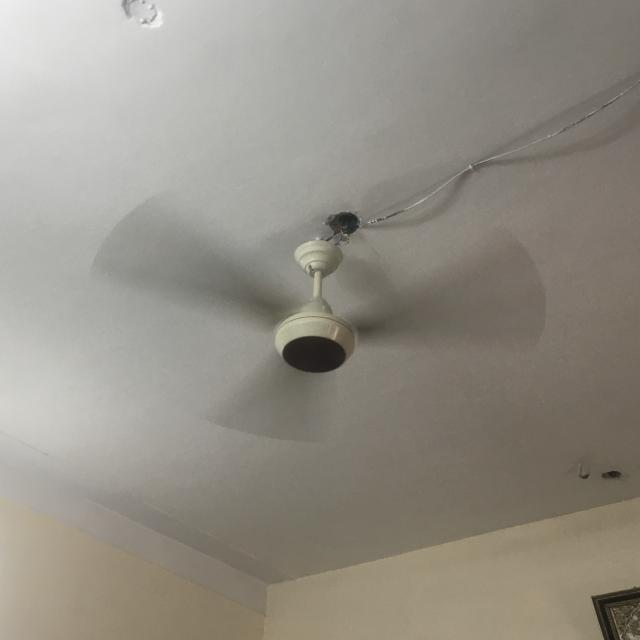on: (85, 177, 550, 452)
